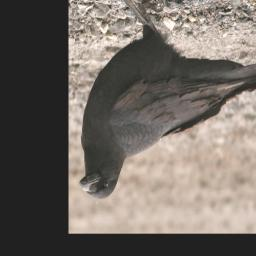Crow: (79, 0, 256, 201)
